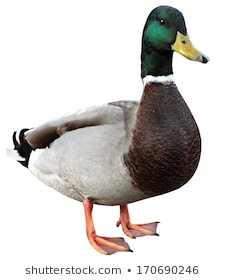duck: (4, 4, 220, 258)
